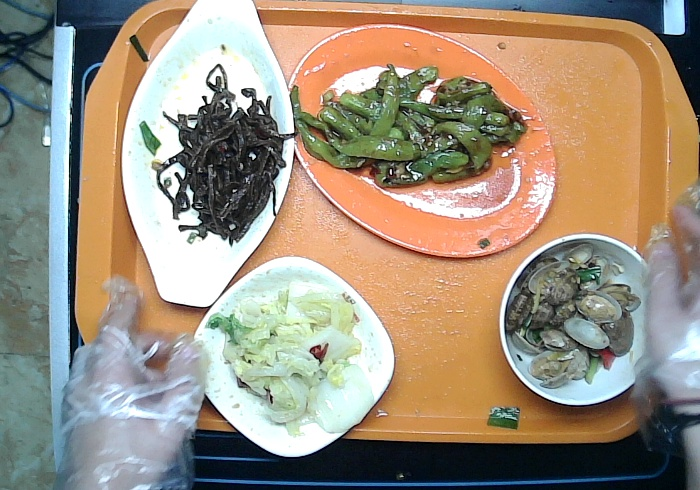NLDX-Bai_Se_Xiao_Fang_Die: (181, 252, 401, 462)
NLDX-Fan_Wan: (494, 227, 662, 414)
NLDX-Ju_Se_Pan: (284, 21, 563, 264)
NLDX-Yu_Pan: (120, 1, 297, 311)
